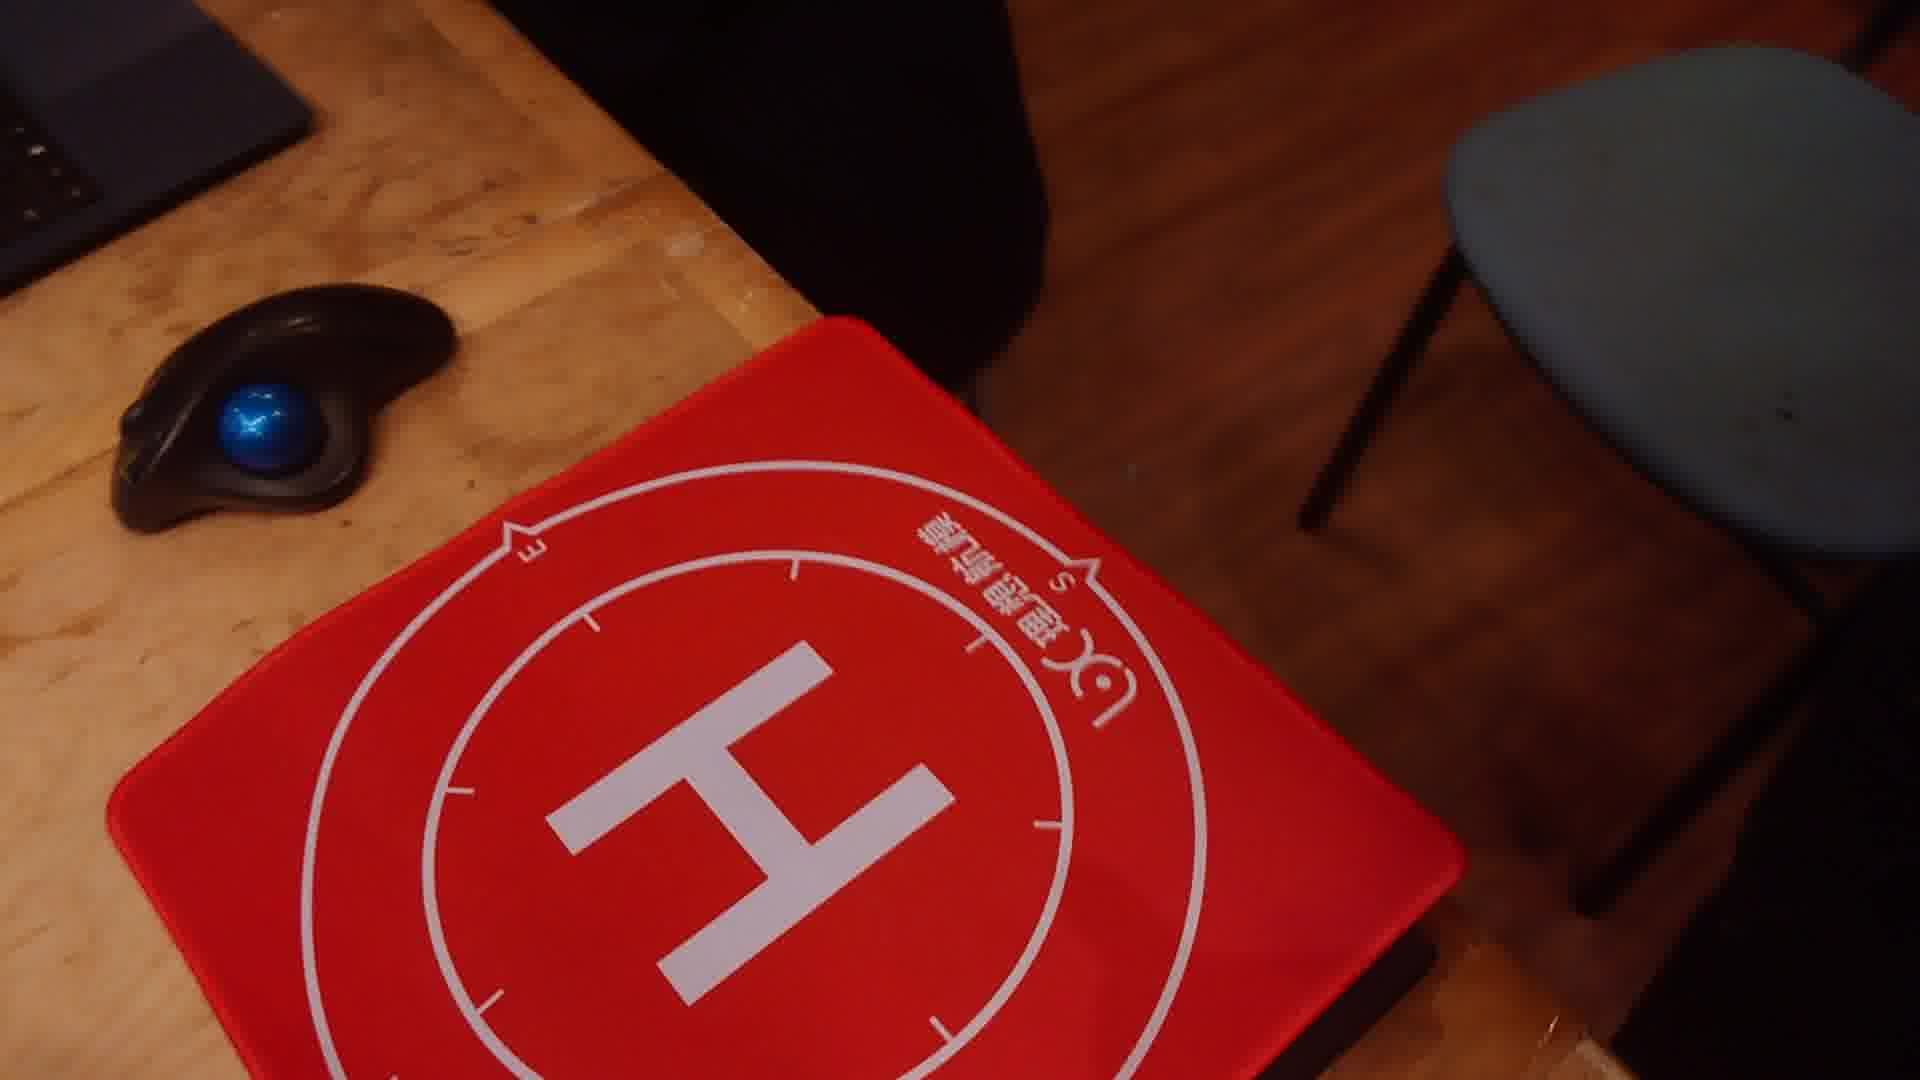H: (549, 638, 957, 1002)
